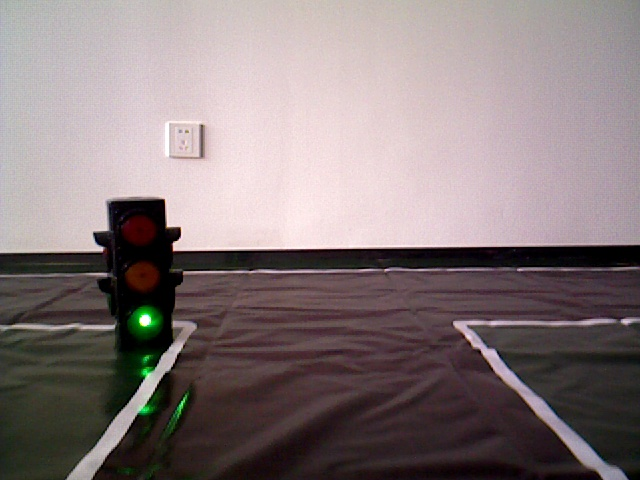green: (105, 205, 169, 335)
